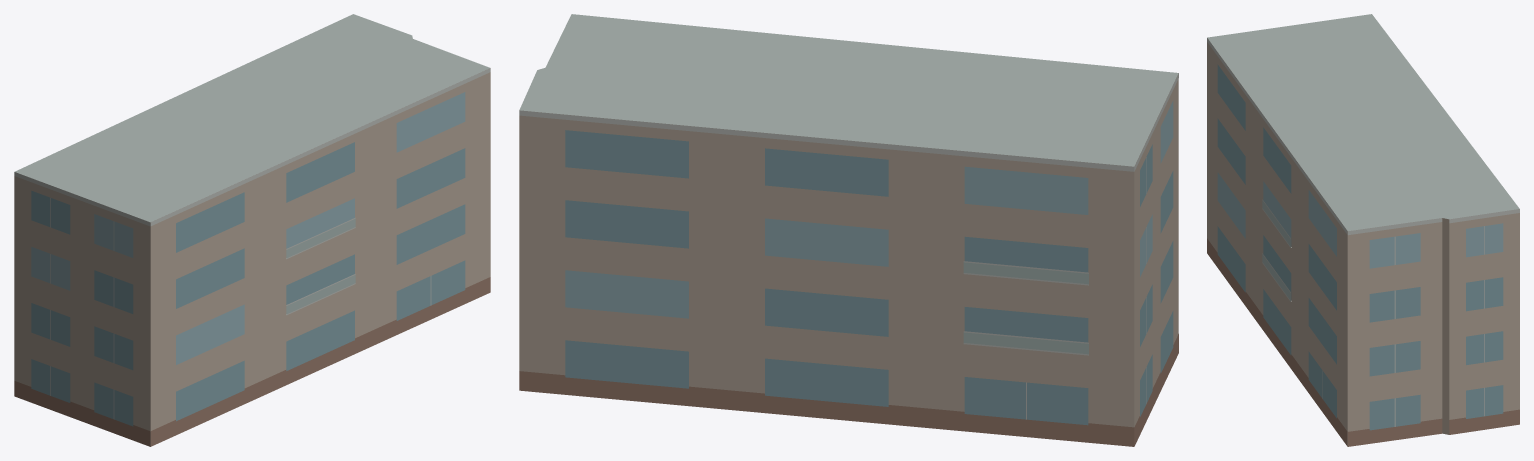
File: survey-upis-32783431.glb
3 renders of one model, left to right at view 1: azimuth 30°, elevation 25°; view 2: azimuth 150°, elevation 25°; view 3: azimuth 270°, elevation 25°, orthographic. The views are drawn at different scales.
Parts seen in each view (by area): view 1: survey-upis-32783431.tmp; view 2: survey-upis-32783431.tmp; view 3: survey-upis-32783431.tmp.
Part boxes in pixels (x1,y1,x2,y2): survey-upis-32783431.tmp: [14, 14, 490, 446]; survey-upis-32783431.tmp: [519, 14, 1178, 446]; survey-upis-32783431.tmp: [1207, 14, 1519, 446].
Bounding box in the file's own units: 28.55 × 13.21 × 17.37.
